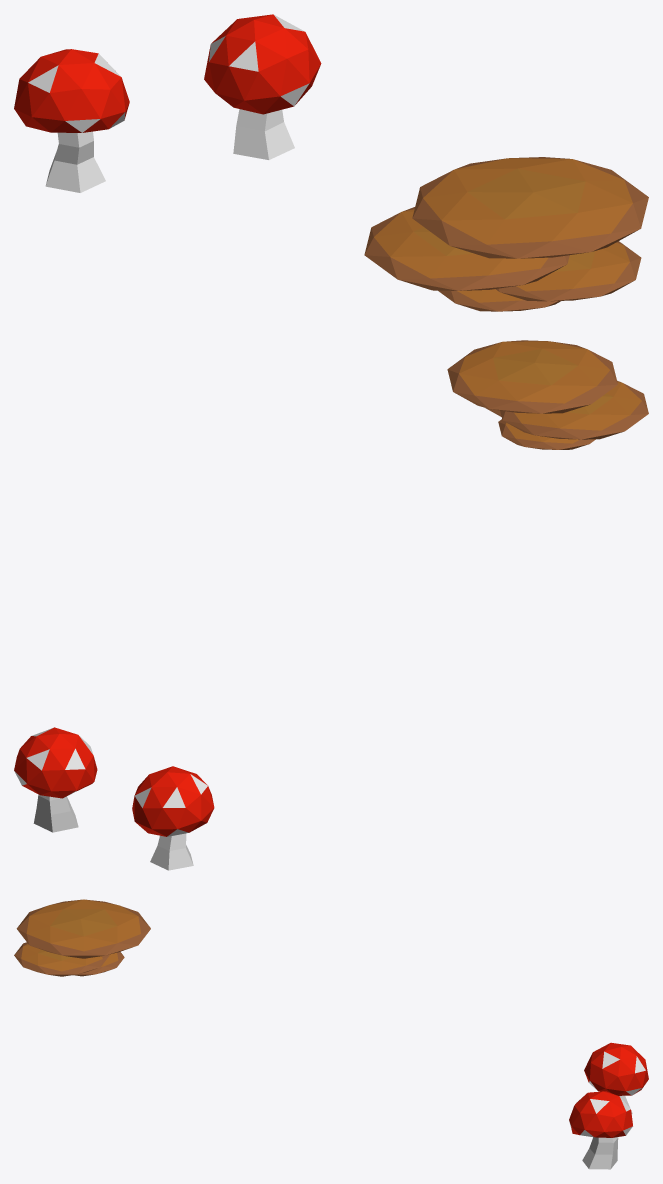
Rendered from Mushrooms.fbx.
The picture shows the model from 3 angles, top to bottom: view 1: azimuth 30°, elevation 25°; view 2: azimuth 150°, elevation 25°; view 3: azimuth 270°, elevation 25°; orthographic projection. The views are drawn at different scales.
Parts seen in each view (by area): view 1: Icosphere.020, Icosphere.019, Icosphere.018, Icosphere.021, Icosphere.022, Icosphere.023; view 2: Icosphere.020, Icosphere.019, Icosphere.018, Icosphere.021, Icosphere.023; view 3: Icosphere.020, Icosphere.019, Icosphere.018, Icosphere.022, Icosphere.023.
Part boxes in pixels (x1=…): Icosphere.020: x1=412, y1=157, x2=648, y2=258; Icosphere.019: x1=204, y1=14, x2=321, y2=159; Icosphere.018: x1=14, y1=49, x2=129, y2=192; Icosphere.021: x1=364, y1=207, x2=569, y2=290; Icosphere.022: x1=495, y1=241, x2=641, y2=301; Icosphere.023: x1=438, y1=289, x2=560, y2=311; Icosphere.020: x1=447, y1=340, x2=617, y2=413; Icosphere.019: x1=14, y1=727, x2=97, y2=832; Icosphere.018: x1=132, y1=766, x2=214, y2=870; Icosphere.021: x1=500, y1=380, x2=648, y2=439; Icosphere.023: x1=498, y1=419, x2=595, y2=449; Icosphere.020: x1=16, y1=899, x2=150, y2=958; Icosphere.019: x1=569, y1=1091, x2=632, y2=1169; Icosphere.018: x1=584, y1=1042, x2=648, y2=1114; Icosphere.022: x1=14, y1=942, x2=109, y2=976; Icosphere.023: x1=73, y1=951, x2=124, y2=976.
Size of the model in its own units: 124 by 103 by 311.
